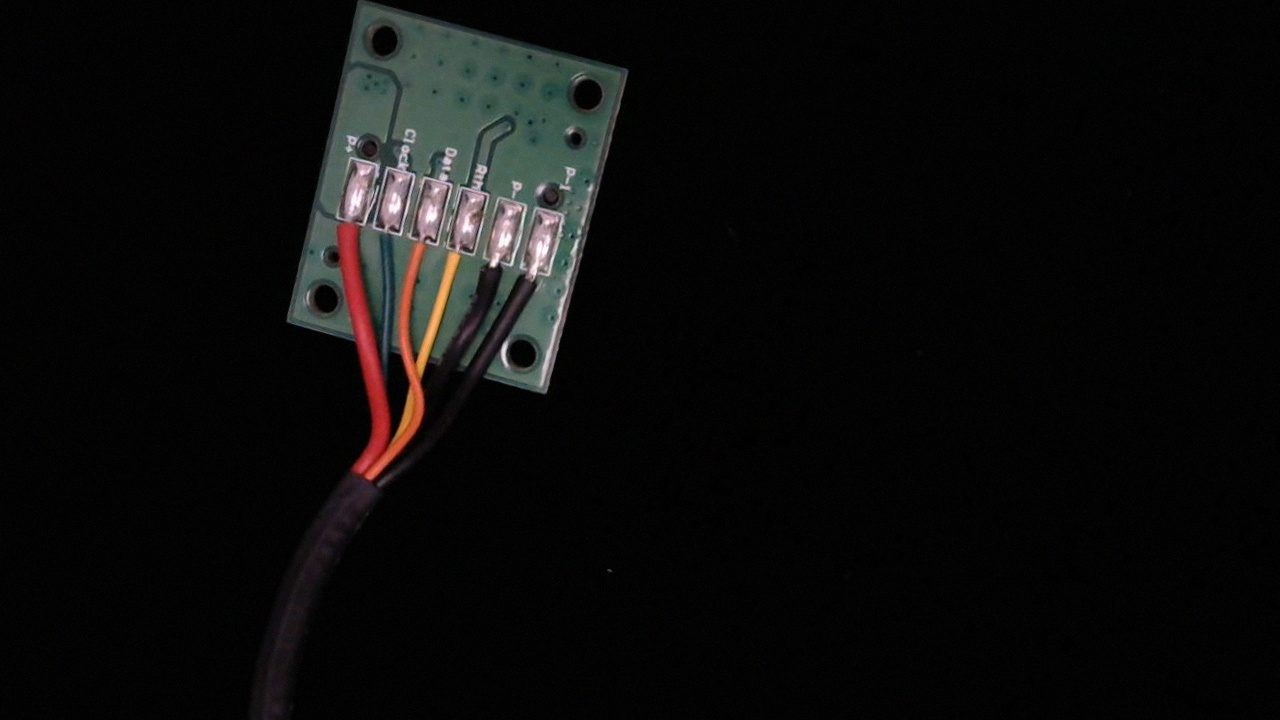Black: (466, 244, 515, 317)
Black1: (504, 254, 553, 323)
Green: (359, 212, 407, 275)
Orange: (397, 224, 440, 277)
Red: (322, 206, 370, 271)
Yellow: (426, 231, 479, 300)
